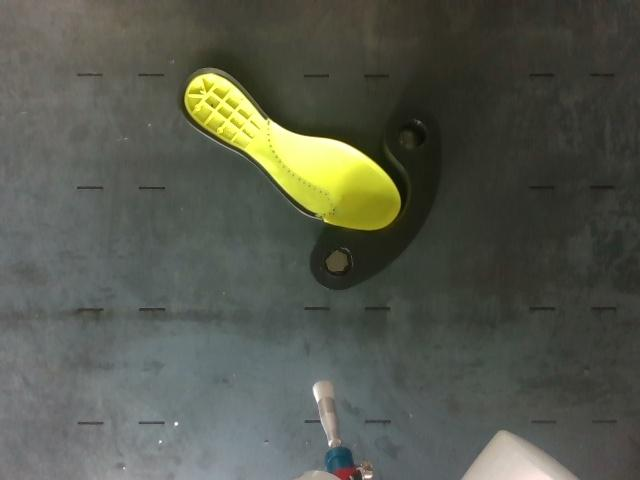shoes: (181, 68, 401, 230)
